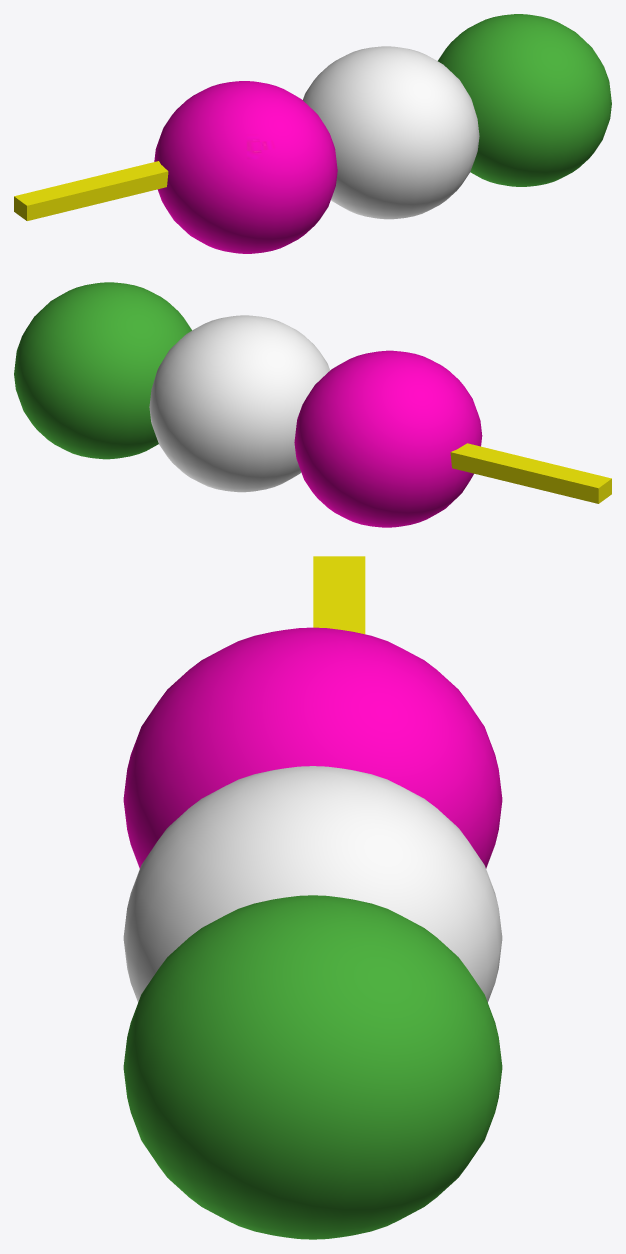
The model's file is Dumpling.FBX.
3 views of the same model, one above another, from view 1: azimuth 30°, elevation 25°; view 2: azimuth 150°, elevation 25°; view 3: azimuth 270°, elevation 25° (orthographic). The views are drawn at different scales.
Visible parts, largest first — view 1: Sphere203, Sphere204, Sphere202, Box224; view 2: Sphere203, Sphere204, Sphere202, Box224; view 3: Sphere202, Sphere203, Sphere204, Box224.
Part boxes in pixels (left/top/right/bottom): Sphere203: left=154, top=81, right=337, bottom=253; Sphere204: left=303, top=46, right=479, bottom=219; Sphere202: left=438, top=14, right=611, bottom=186; Box224: left=14, top=161, right=168, bottom=220; Sphere203: left=294, top=350, right=482, bottom=527; Sphere204: left=149, top=315, right=329, bottom=492; Sphere202: left=14, top=282, right=191, bottom=459; Box224: left=450, top=443, right=611, bottom=503; Sphere202: left=123, top=895, right=502, bottom=1239; Sphere203: left=123, top=627, right=502, bottom=868; Sphere204: left=123, top=766, right=502, bottom=1002; Box224: left=313, top=556, right=365, bottom=634.
Size of the model in its own units: 18.28 by 5.25 by 4.72.
Materials: 4 (4 with a texture image).
